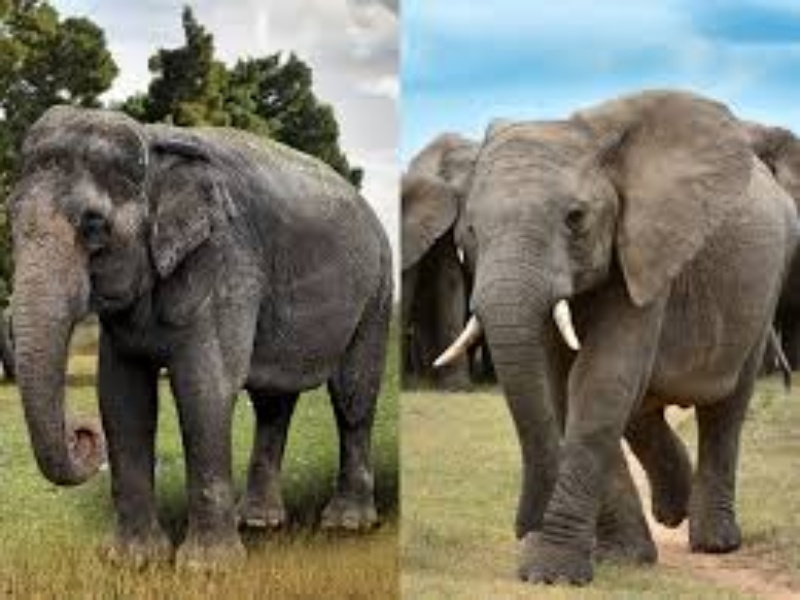elephant: (412, 64, 797, 580), (7, 72, 393, 568)
